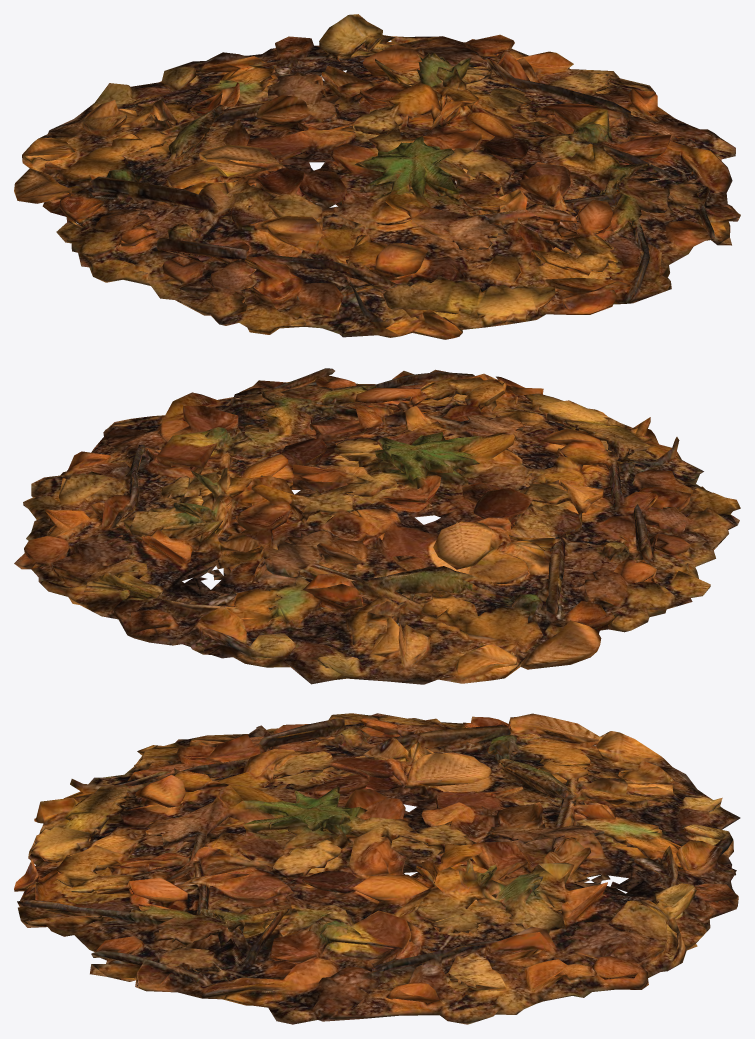
The model's file is kit_bolu_leaf_fall.glb.
The picture shows the model from 3 angles, top to bottom: view 1: azimuth 30°, elevation 25°; view 2: azimuth 150°, elevation 25°; view 3: azimuth 270°, elevation 25°; orthographic projection. The views are drawn at different scales.
Parts seen in each view (by area): view 1: Mesh1.0; view 2: Mesh1.0; view 3: Mesh1.0.
Boxes of the visible parts, x1,y1,x2,y2 form: Mesh1.0: (14, 14, 740, 339); Mesh1.0: (14, 368, 740, 684); Mesh1.0: (14, 713, 740, 1024).
Bounding box in the file's own units: 1.35 × 0.14 × 1.34.
1 material, 1 textured.
